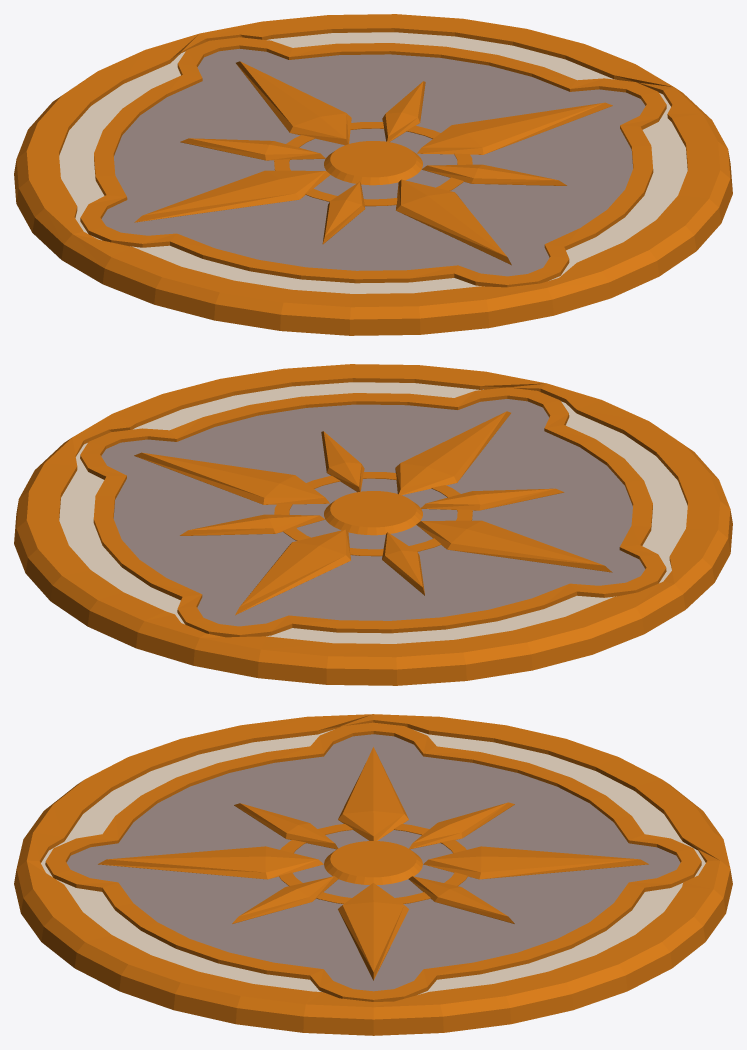
The model's file is Eff_platform_ice.FBX.
3 views of the same model, one above another, from view 1: azimuth 30°, elevation 25°; view 2: azimuth 150°, elevation 25°; view 3: azimuth 270°, elevation 25° (orthographic).
Visible parts, largest first — view 1: platform_ice2; view 2: platform_ice2; view 3: platform_ice2.
Boxes of the visible parts, x1=… form: platform_ice2: x1=14, y1=14, x2=732, y2=335; platform_ice2: x1=14, y1=364, x2=732, y2=685; platform_ice2: x1=14, y1=714, x2=732, y2=1035.
Bounding box in the file's own units: 638 × 29.87 × 638.
